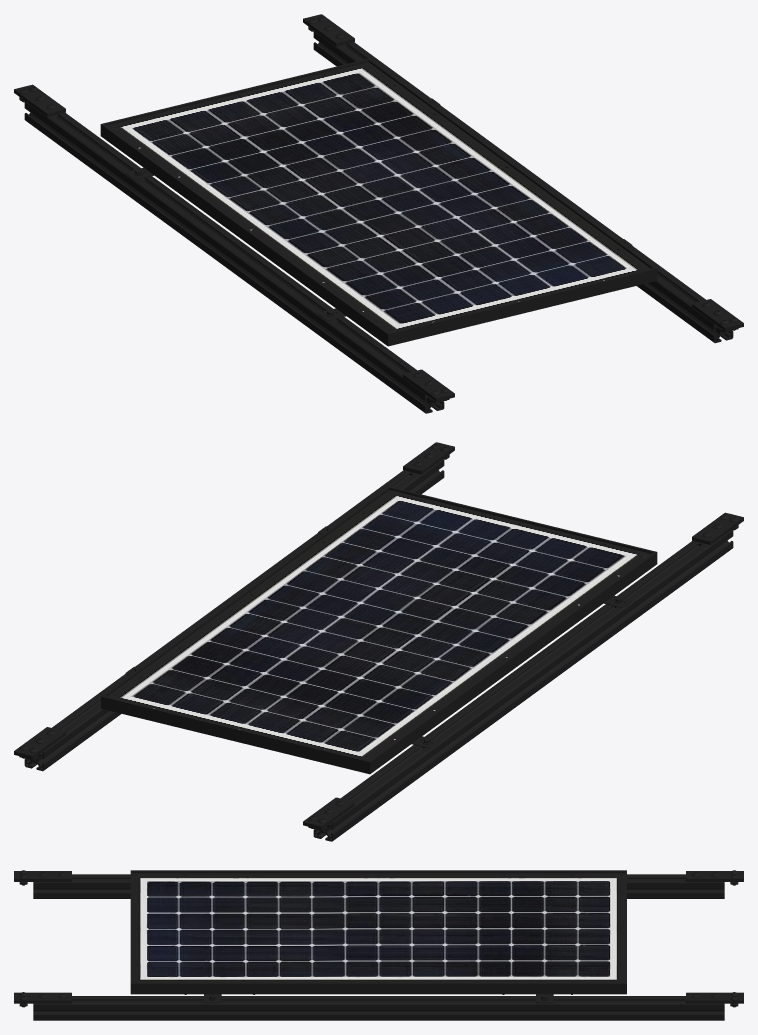
File: 100W_newpowa_sp.glb
3 views of the same model, one above another, from view 1: azimuth 30°, elevation 25°; view 2: azimuth 150°, elevation 25°; view 3: azimuth 270°, elevation 25° (orthographic). The views are drawn at different scales.
Visible parts, largest first — view 1: new_solar100; view 2: new_solar100; view 3: new_solar100.
Boxes of the visible parts, x1,y1,x2,y2 form: new_solar100: [14, 14, 743, 413]; new_solar100: [14, 442, 743, 841]; new_solar100: [14, 870, 743, 1020].
Bounding box in the file's own units: 0.607 × 0.0634 × 1.44.
1 material, 1 textured.
